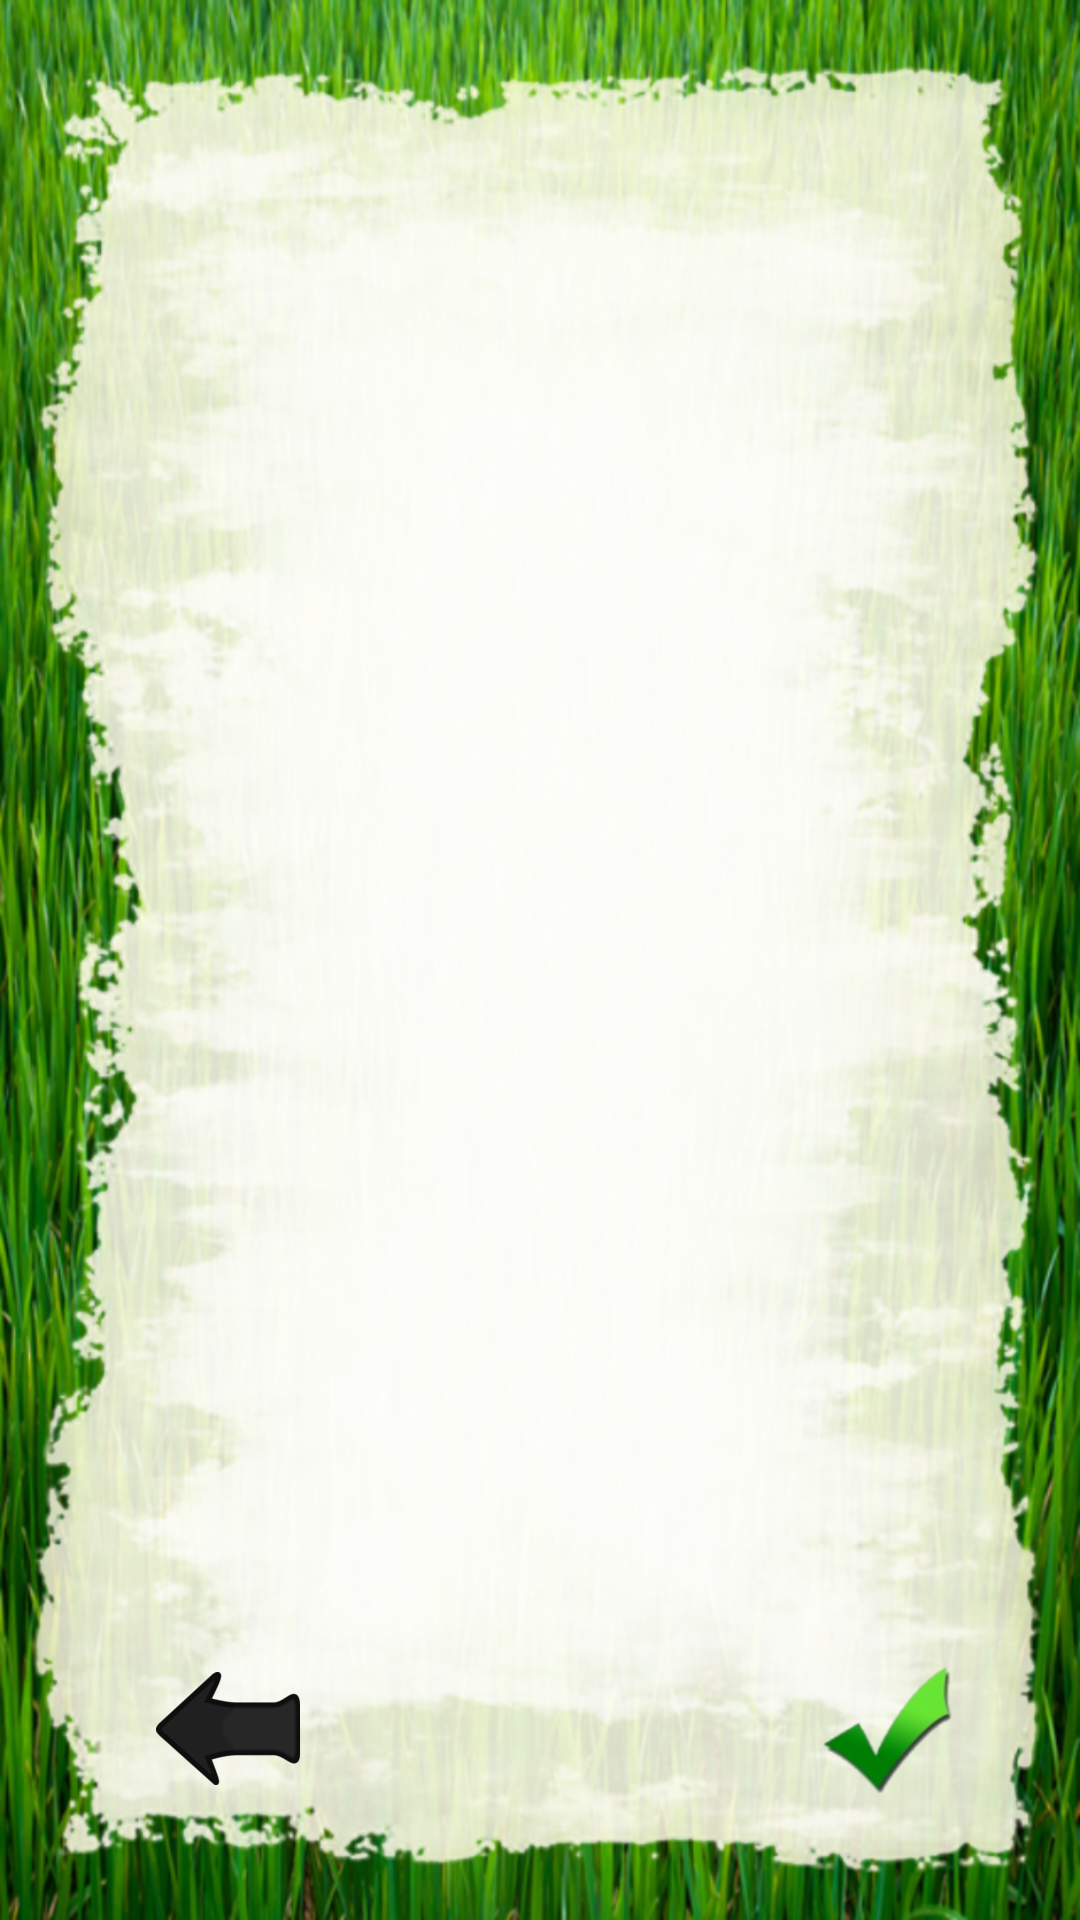

Icons on this 1080 × 1920 Android screen, each with its box as [x1=x1, y1=y1, x2=x2, y2=y2]:
zurueck: [x1=156, y1=1672, x2=300, y2=1785]
